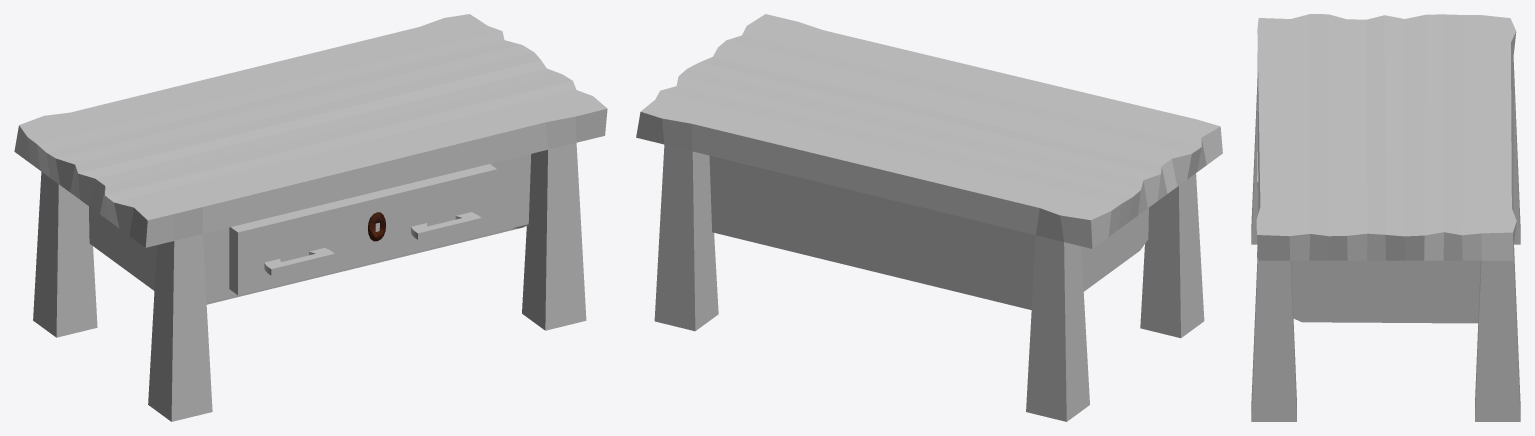
The model's file is escritorio t.fbx.
3 views of the same model, side by side, from view 1: azimuth 30°, elevation 25°; view 2: azimuth 150°, elevation 25°; view 3: azimuth 270°, elevation 25° (orthographic). The views are drawn at different scales.
Visible parts, largest first — view 1: Cube_Cube.001; view 2: Cube_Cube.001; view 3: Cube_Cube.001.
Boxes of the visible parts, left/top/right/bottom form: Cube_Cube.001: left=14, top=14, right=607, bottom=421; Cube_Cube.001: left=636, top=14, right=1222, bottom=421; Cube_Cube.001: left=1251, top=14, right=1520, bottom=421.
Bounding box in the file's own units: 7461 × 3104 × 3815.
